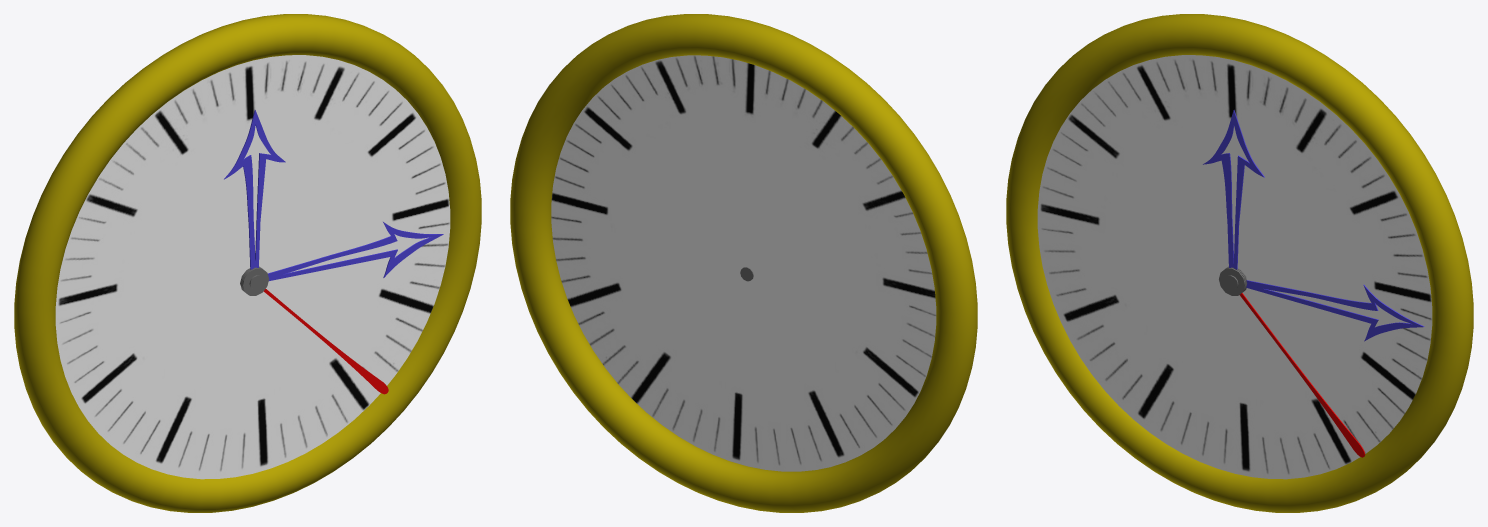
The model's file is clock.fbx.
3 views of the same model, side by side, from view 1: azimuth 30°, elevation 25°; view 2: azimuth 150°, elevation 25°; view 3: azimuth 330°, elevation 25° (orthographic).
Parts seen in each view (by area): view 1: Cylinder01, Torus01, Line03, Line02, Line04; view 2: Cylinder01, Torus01; view 3: Cylinder01, Torus01, Line03, Line02, Line04.
Part boxes in pixels (<box>): Cylinder01: <box>55,55,450,479</box>; Torus01: <box>14,14,481,512</box>; Line03: <box>268,222,443,280</box>; Line02: <box>224,110,285,269</box>; Line04: <box>263,289,388,394</box>; Cylinder01: <box>551,55,936,471</box>; Torus01: <box>510,14,977,512</box>; Cylinder01: <box>1037,55,1432,479</box>; Torus01: <box>1006,14,1473,512</box>; Line03: <box>1246,280,1424,341</box>; Line02: <box>1203,110,1264,269</box>; Line04: <box>1240,293,1365,457</box>.
Size of the model in its own units: 352 by 352 by 27.41.
Materials: 5 (1 with a texture image).
